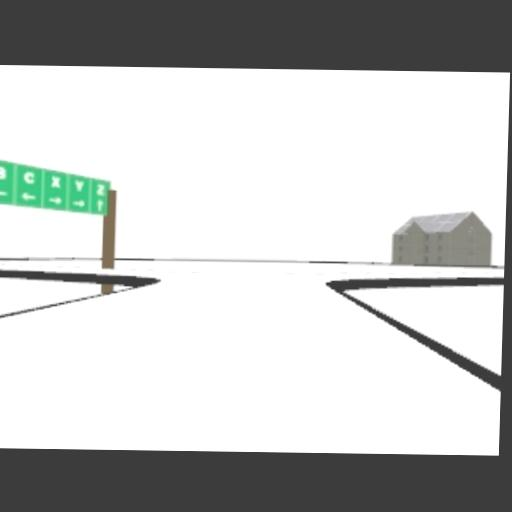B: (0, 165, 5, 177)
C: (24, 170, 34, 183)
Left: (20, 191, 36, 200), (0, 186, 7, 195)
Right: (47, 195, 63, 205), (70, 198, 86, 207)
Y: (74, 179, 85, 191)
Z: (95, 182, 106, 195)
